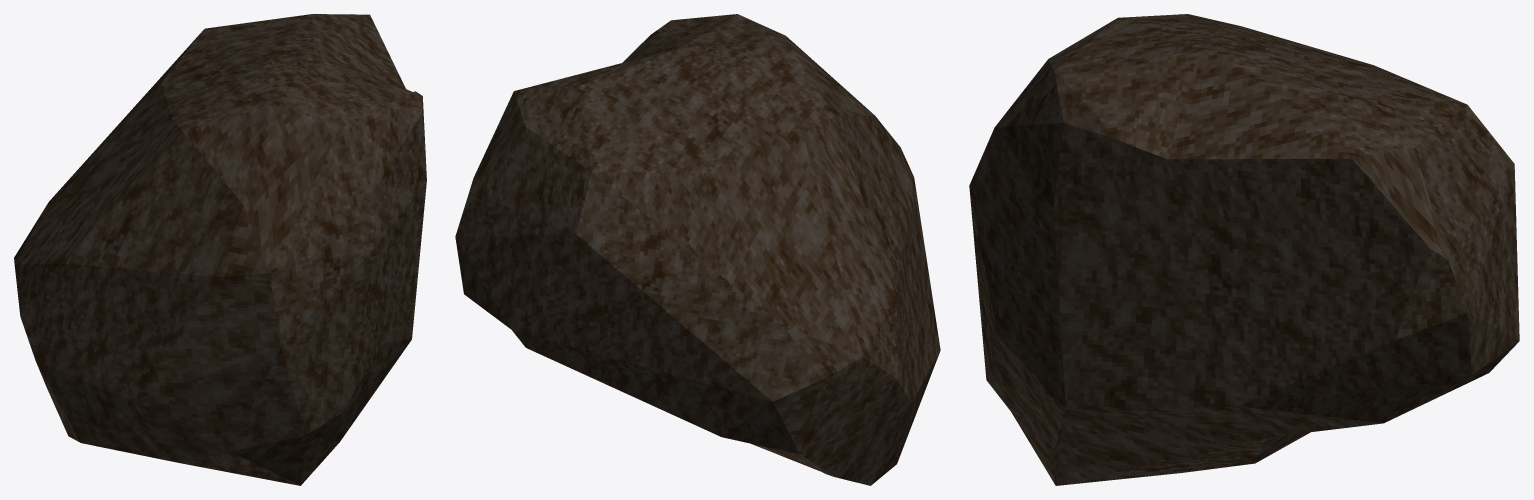
File: cave-stone-piece3.glb
3 views of the same model, side by side, from view 1: azimuth 30°, elevation 25°; view 2: azimuth 150°, elevation 25°; view 3: azimuth 270°, elevation 25° (orthographic). The views are drawn at different scales.
Visible parts, largest first — view 1: Cube_cell.009; view 2: Cube_cell.009; view 3: Cube_cell.009.
Boxes of the visible parts, bbox=[...] form: Cube_cell.009: bbox=[14, 14, 426, 485]; Cube_cell.009: bbox=[455, 14, 940, 485]; Cube_cell.009: bbox=[969, 14, 1519, 485].
Bounding box in the file's own units: 0.9254 × 0.878 × 0.9077.
Materials: 1 (1 with a texture image).
